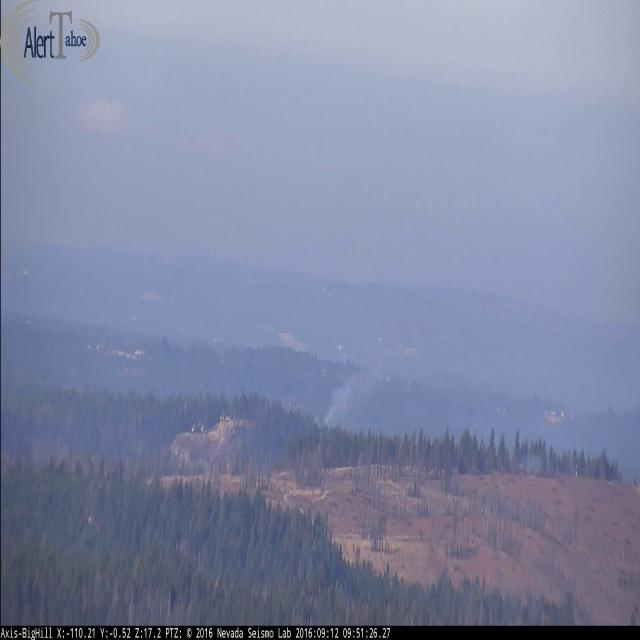smoke: (311, 330, 405, 430)
